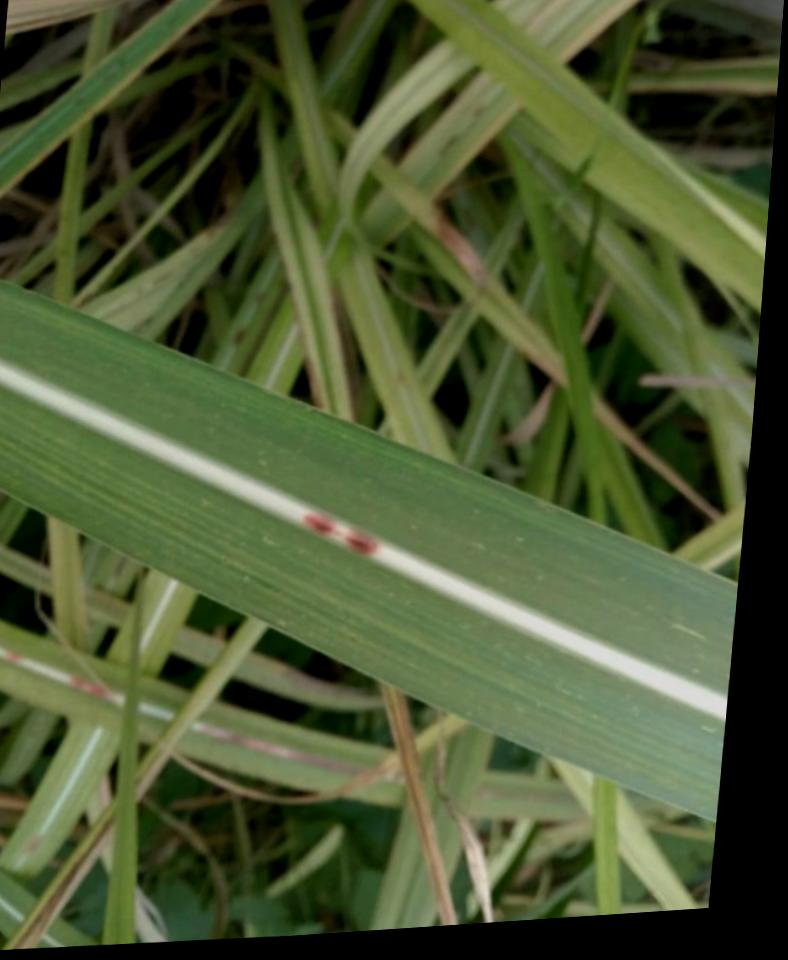RedRot: (196, 721, 377, 776), (299, 509, 382, 557), (69, 674, 111, 703), (1, 648, 26, 664)
